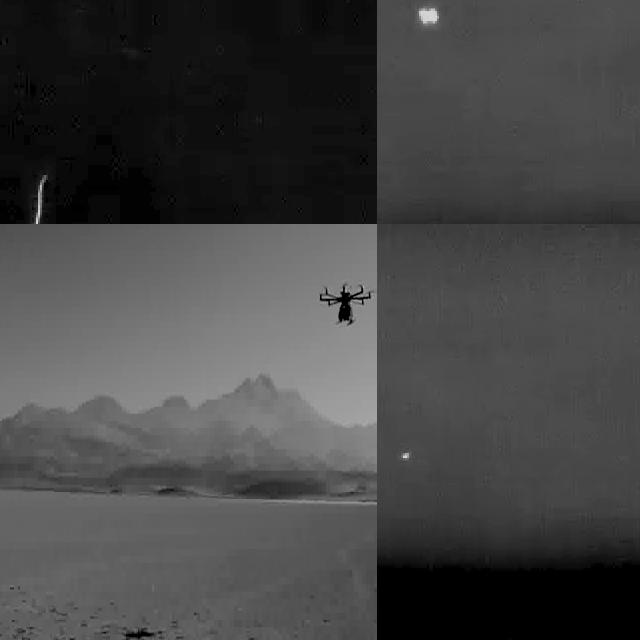1: (411, 4, 449, 36), (393, 442, 427, 476)
drone: (319, 278, 373, 330)
